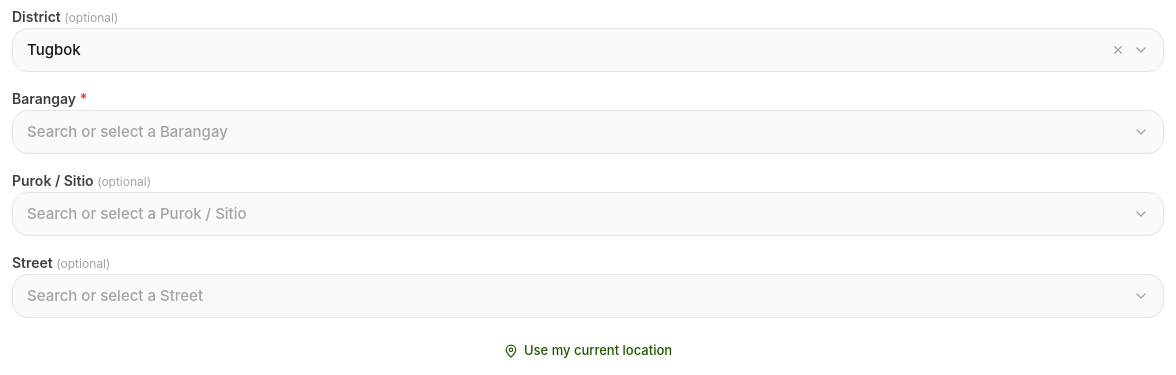
it: FarmLocationFields Component › filters barangays to only those under the selected district
// Click the barangay combobox trigger to open the options list
Click the button named "barangay *" at (127, 131), box [12,110,1164,154]
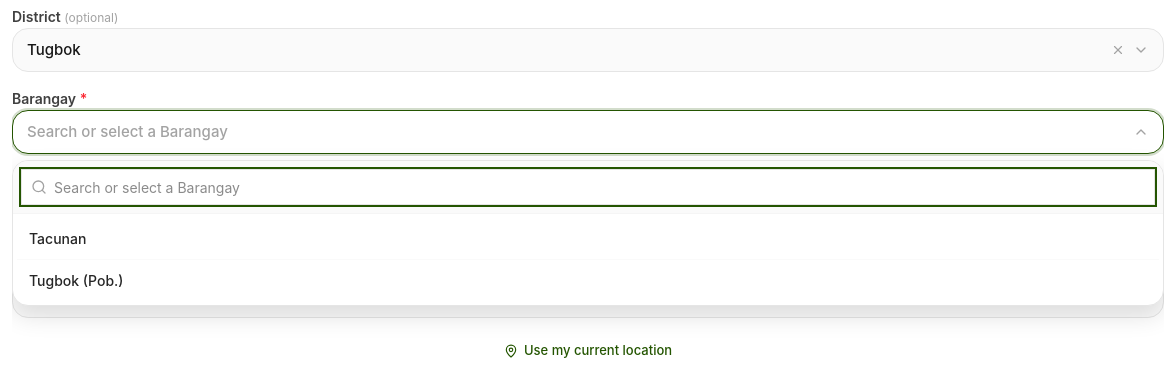
Result: the text "Tacunan" is shown at [29,228,86,249]
Result: the text "Tugbok (Pob.)" is shown at [29,270,124,291]
